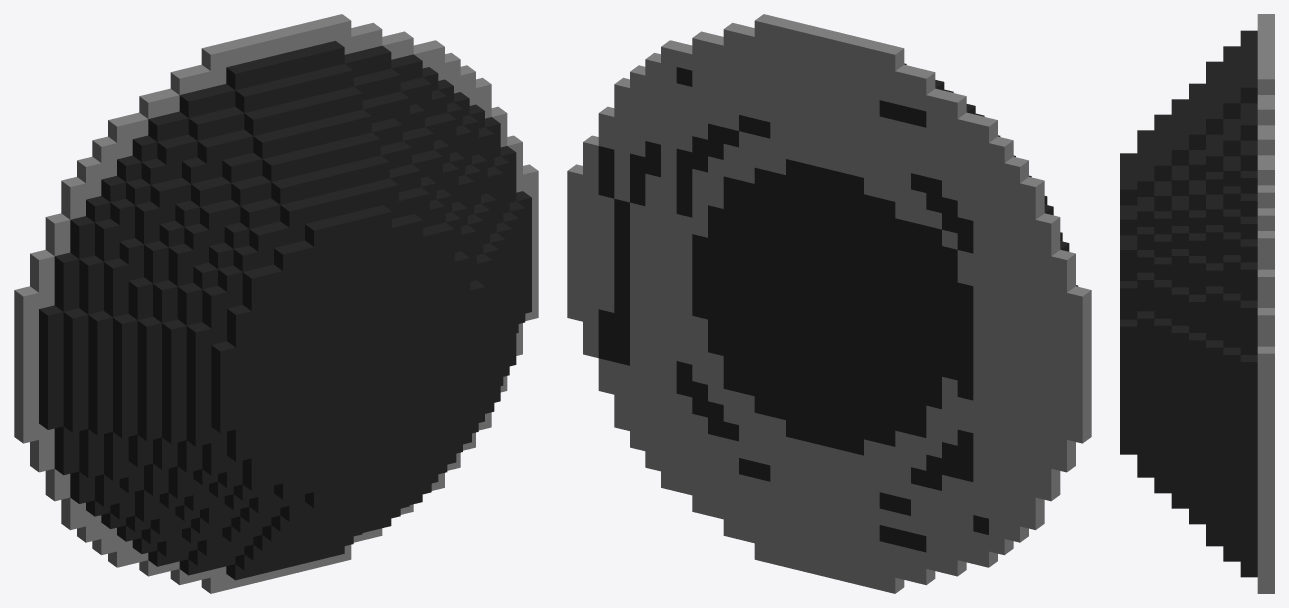
Rendered from lightblack.obj.
3 renders of one model, left to right at view 1: azimuth 30°, elevation 25°; view 2: azimuth 150°, elevation 25°; view 3: azimuth 270°, elevation 25°, orthographic. The views are drawn at different scales.
Bounding box in the file's own units: 33 × 33 × 9.
1 material, 1 textured.
